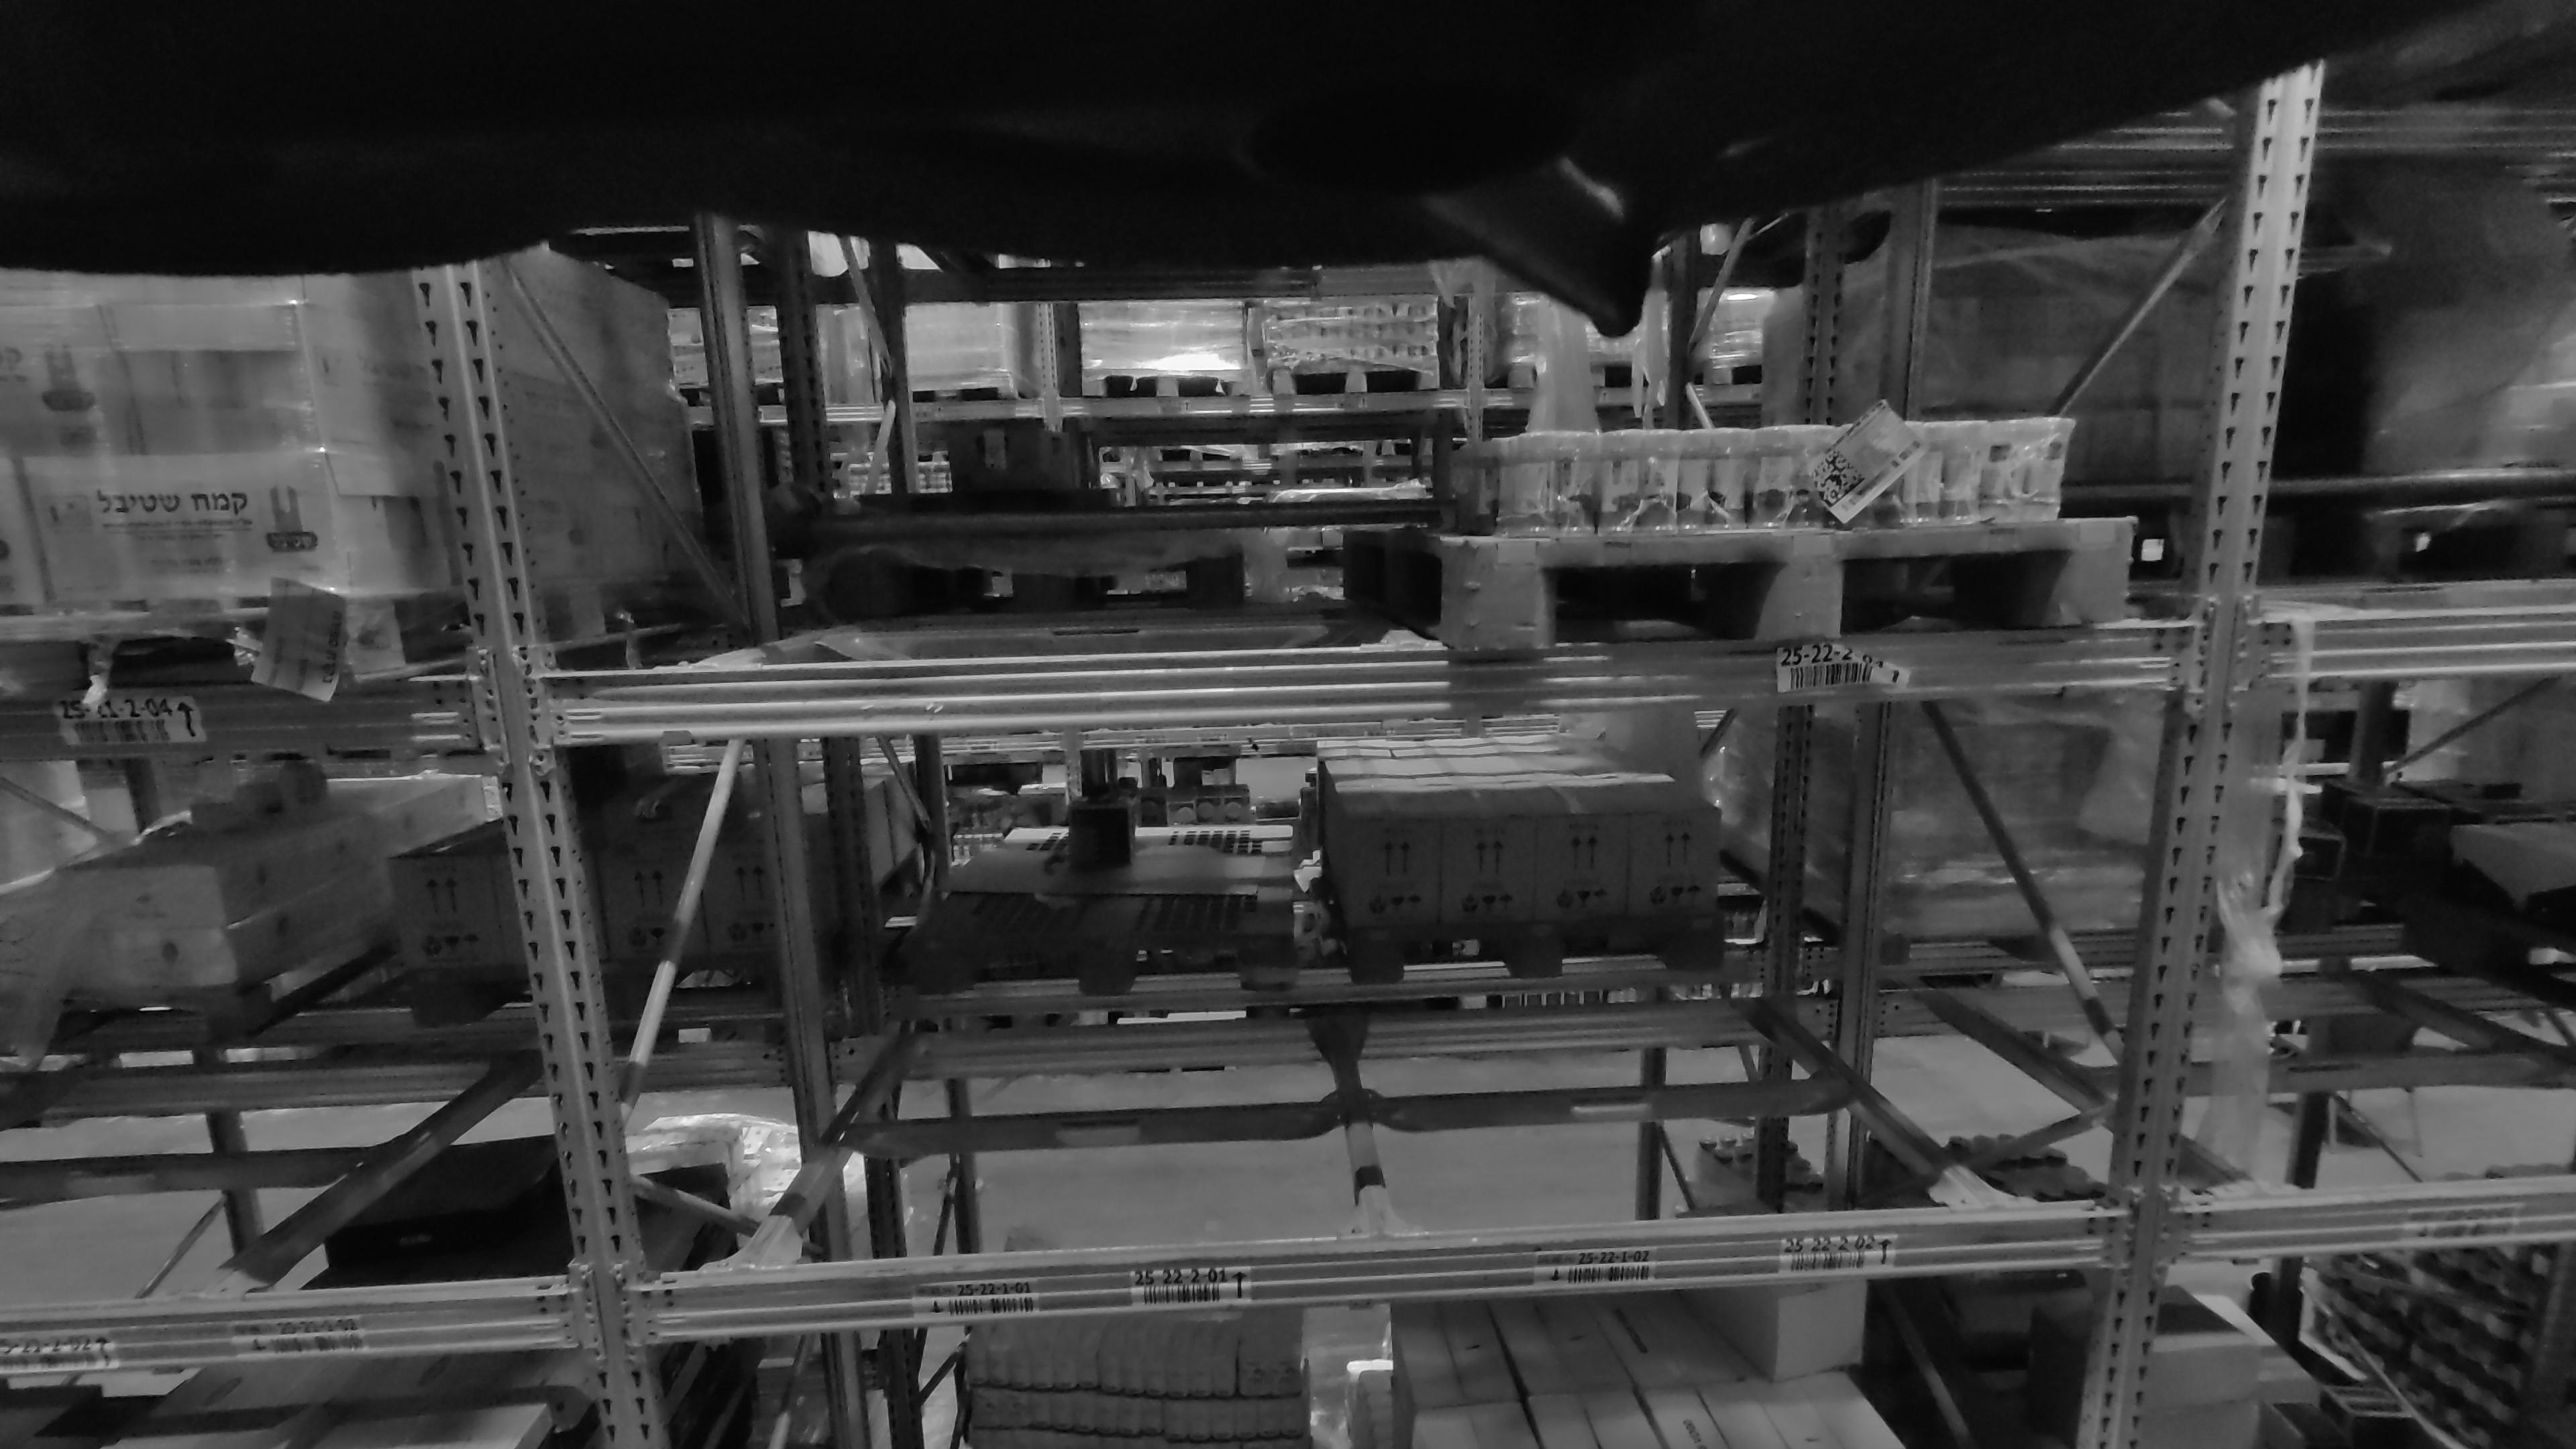empty-shelf: (602, 205, 1380, 653), (747, 725, 1341, 1244), (1389, 727, 1980, 1226), (25, 745, 515, 1283), (2296, 688, 2576, 1175), (2330, 44, 2576, 563)
